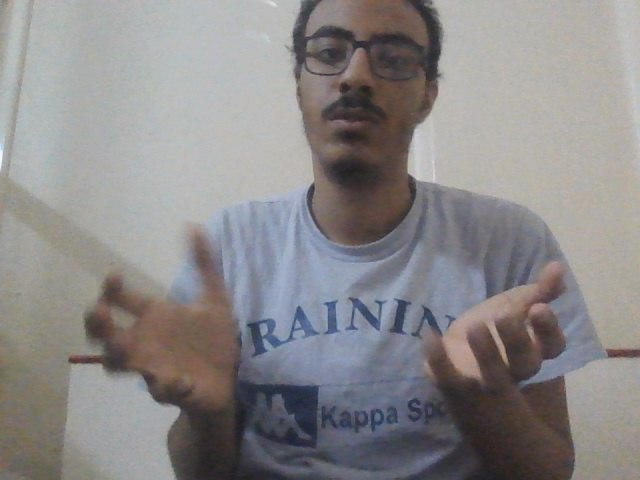What: (78, 219, 573, 412)
